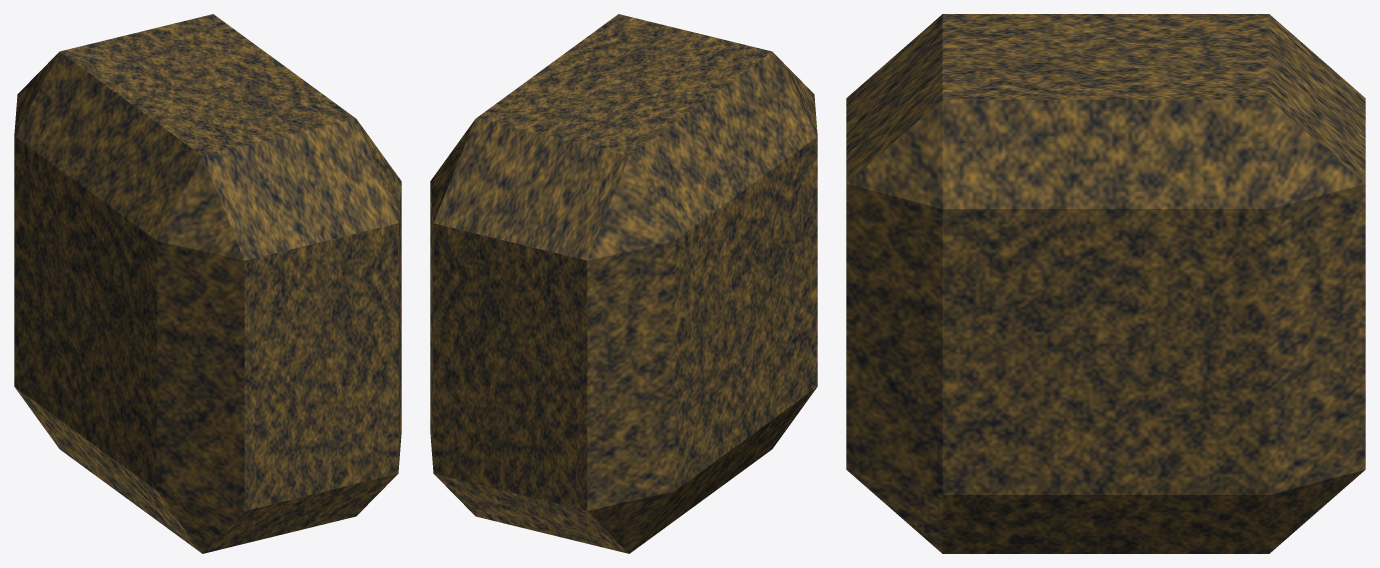
3 renders of one model, left to right at view 1: azimuth 30°, elevation 25°; view 2: azimuth 150°, elevation 25°; view 3: azimuth 270°, elevation 25°, orthographic. The views are drawn at different scales.
Parts seen in each view (by area): view 1: geometry_0; view 2: geometry_0; view 3: geometry_0.
Part boxes in pixels (left/top/right/bottom): geometry_0: left=14, top=14, right=401, bottom=553; geometry_0: left=430, top=14, right=817, bottom=553; geometry_0: left=846, top=14, right=1365, bottom=553.
Size of the model in its own units: 1.11 by 1.72 by 1.78.
Materials: 1 (1 with a texture image).
